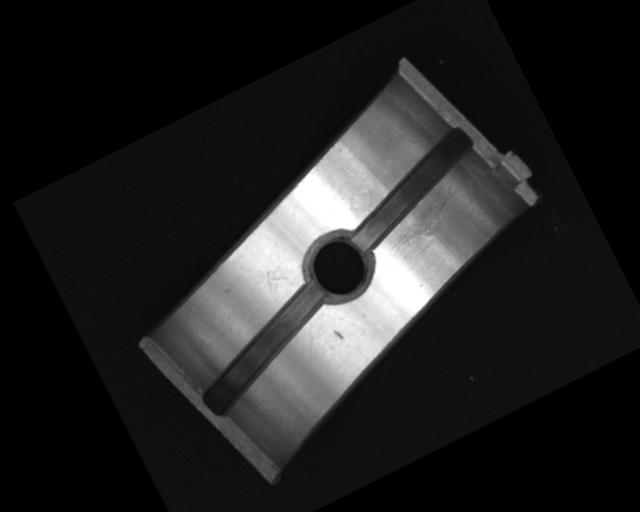bruise: (332, 326, 346, 343)
gap: (179, 279, 351, 419), (329, 123, 493, 251)
hole: (293, 221, 384, 313)
scratch: (375, 179, 473, 257)
